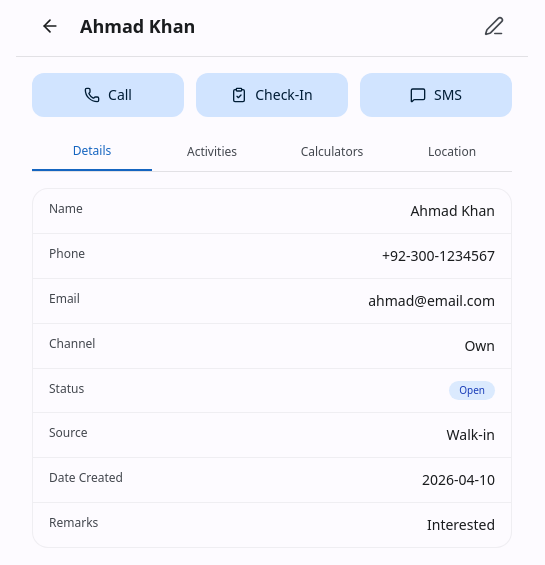
LeadDetailContent › shows "No activities recorded yet" when activities are empty
Click the button "Activities": (212, 152) [152,133,272,171]
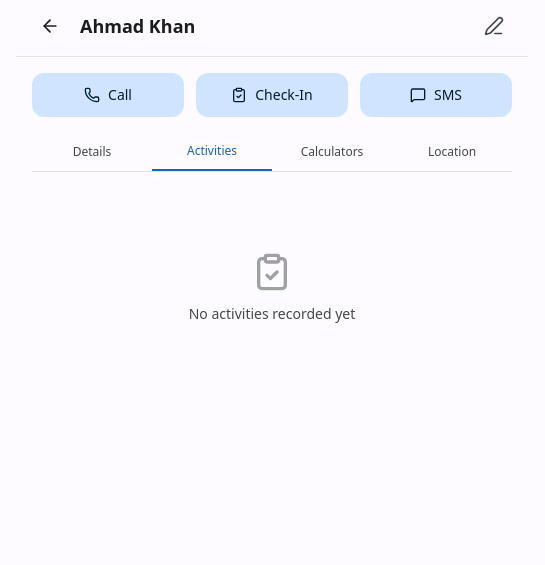
expect the text "No activities recorded yet" is shown: met, box [189,304,355,324]
